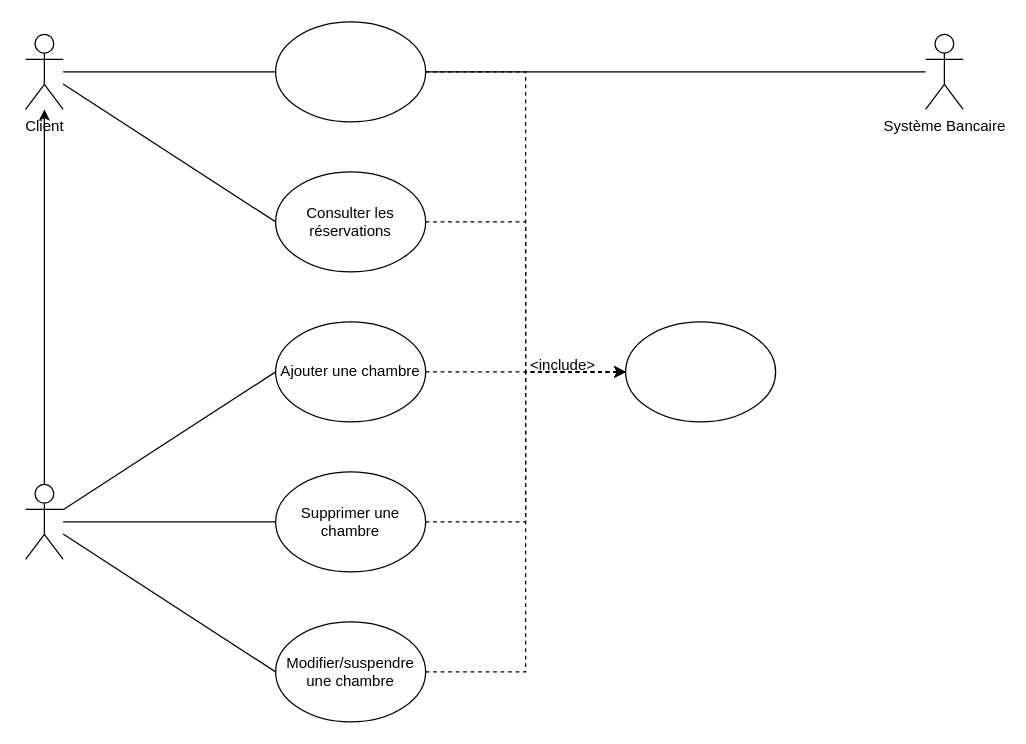
This 1026x744 diagram has some shape labels left out. The shapes that lost their labels are listed below. From the top down, each one's box as (x1, y1, x2, y2) in pixels, then its label:
(274, 21, 426, 122): Réserver une chambre
(624, 321, 776, 422): <<fragement>> Authentification
(24, 483, 63, 559): Gérant
